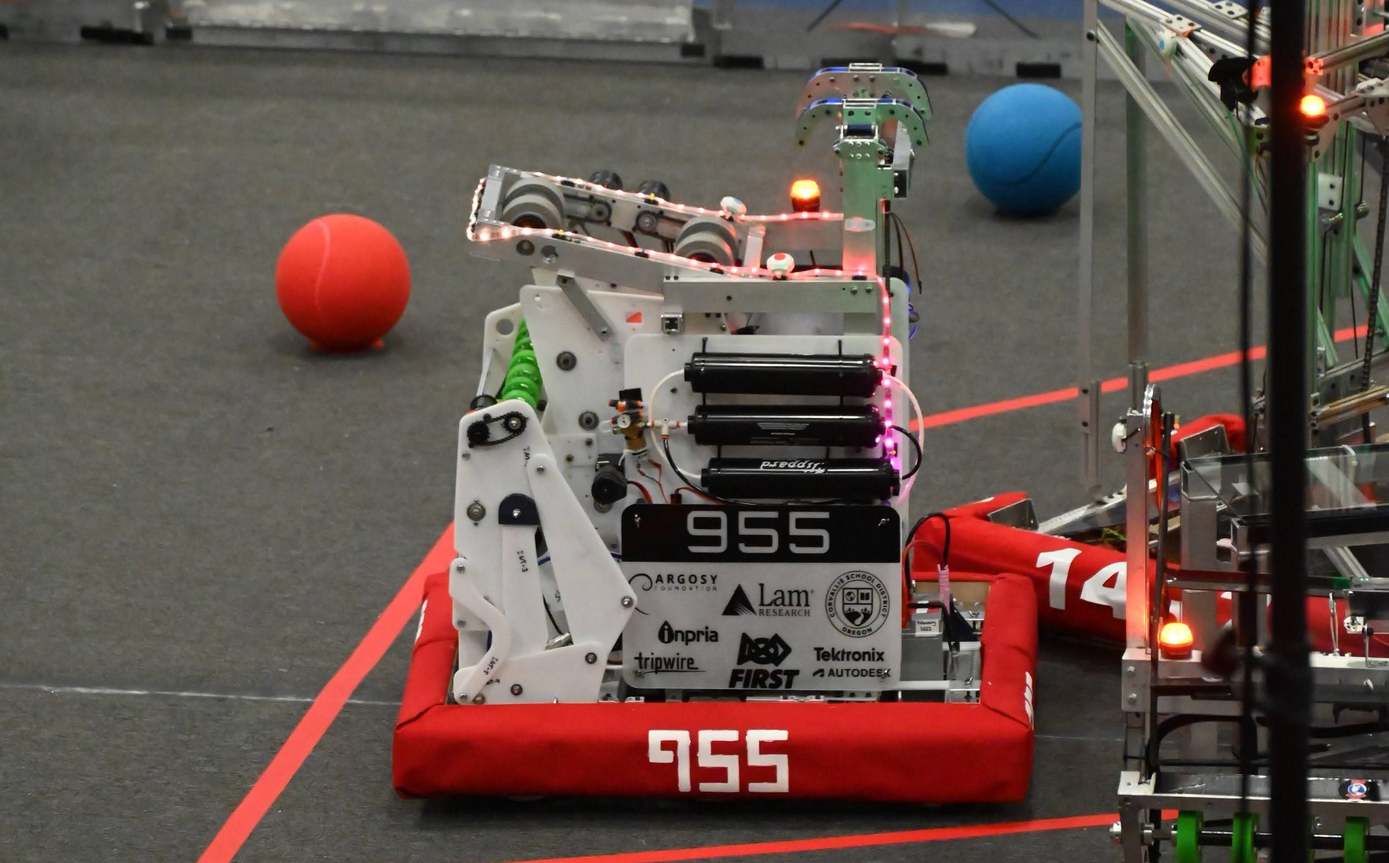robot: (389, 58, 1044, 820), (910, 0, 1389, 699), (1107, 344, 1389, 863)
